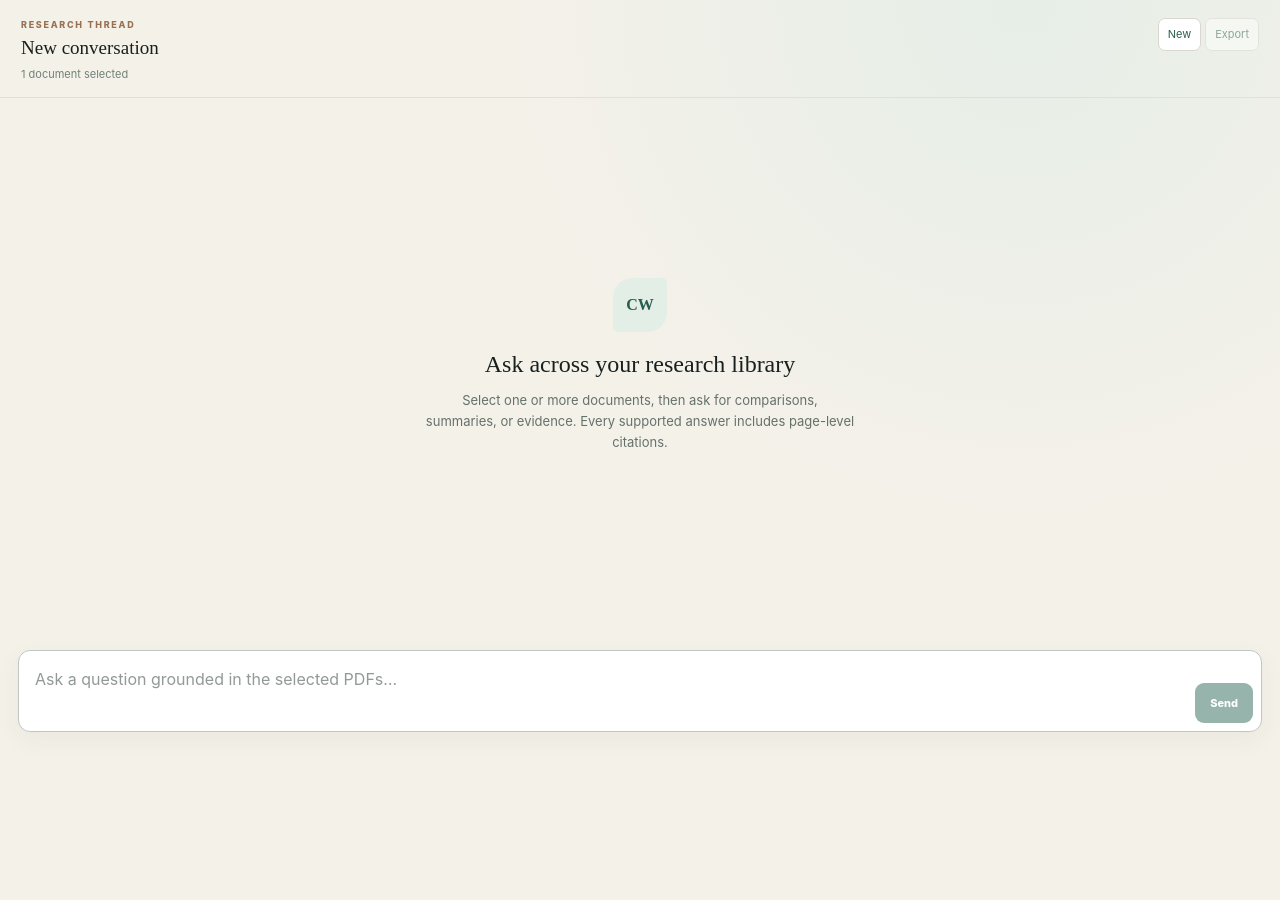
Test: chat panel › cleans up loading state and offers retry after stream failure
The width and height of the screenshot is (1280, 900).
Type "What happened?" into the text box labelled "question" at (611, 691), box [27, 659, 1195, 723]
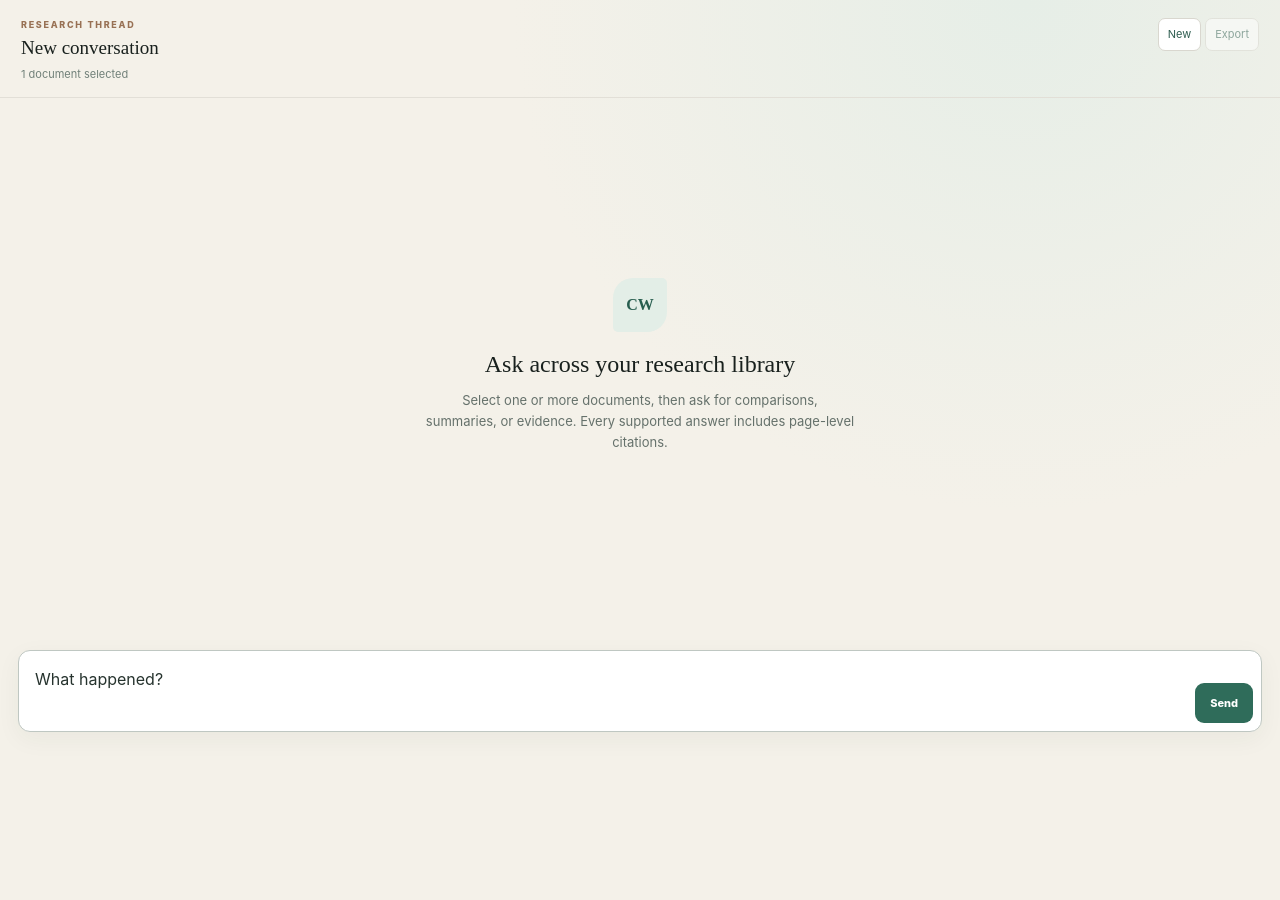
Click the button "Send" at (1224, 703), box [1195, 683, 1253, 723]
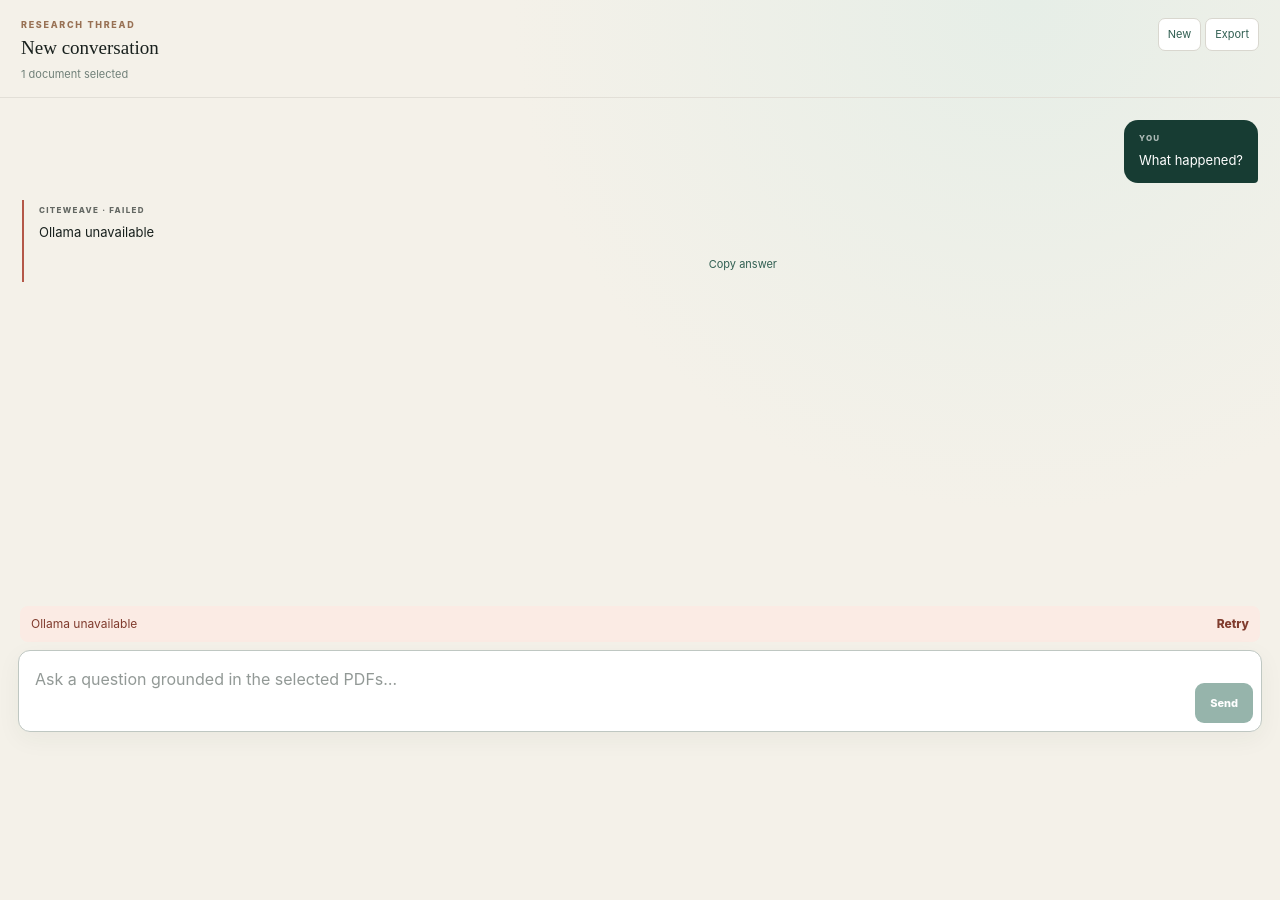
Expected: the text "Ollama unavailable" is shown 2 times, [39, 224, 154, 240]; [31, 615, 137, 633]
Expected: the button "Retry" is enabled, [1217, 615, 1249, 633]
